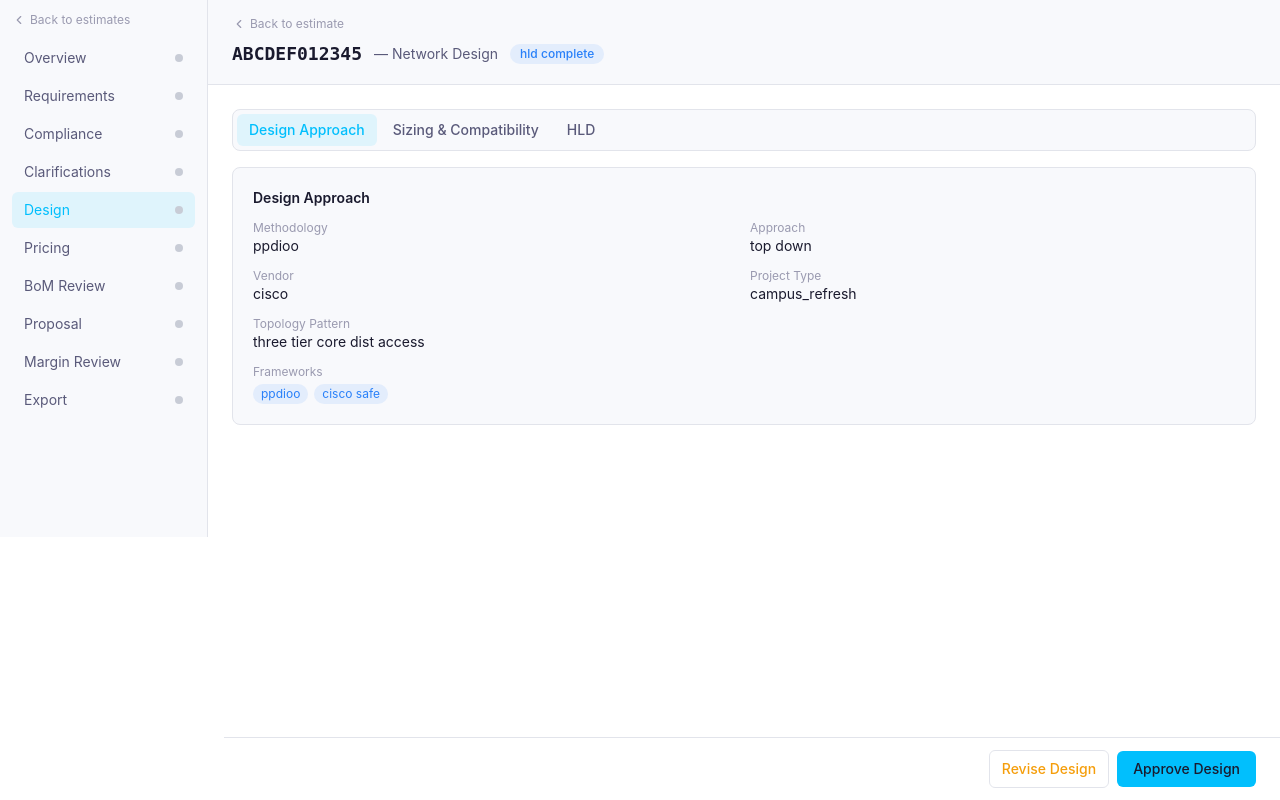
DesignPage › Tab 2 renders sizing rows + compatibility errors and warnings
expect the heading "Design Approach" is shown: met, box [253,189,370,206]
Click the button "Sizing & Compatibility" at [466, 130], box [381,114,551,146]
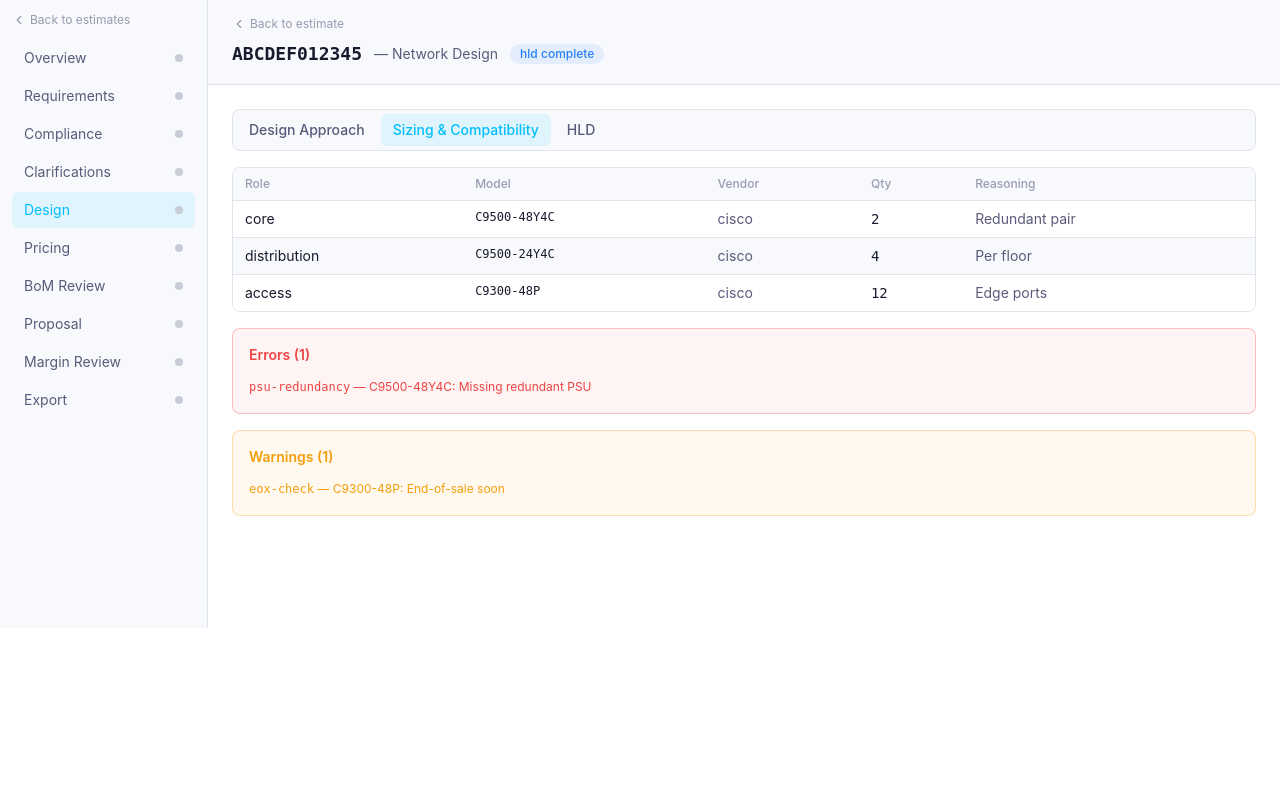
expect the text "C9500-48Y4C" is shown: met, box [463,200,706,238]
expect the text "C9300-48P" is shown: met, box [463,274,706,311]
expect the element with test id "issues-error" is shown: met, box [232,328,1256,414]
